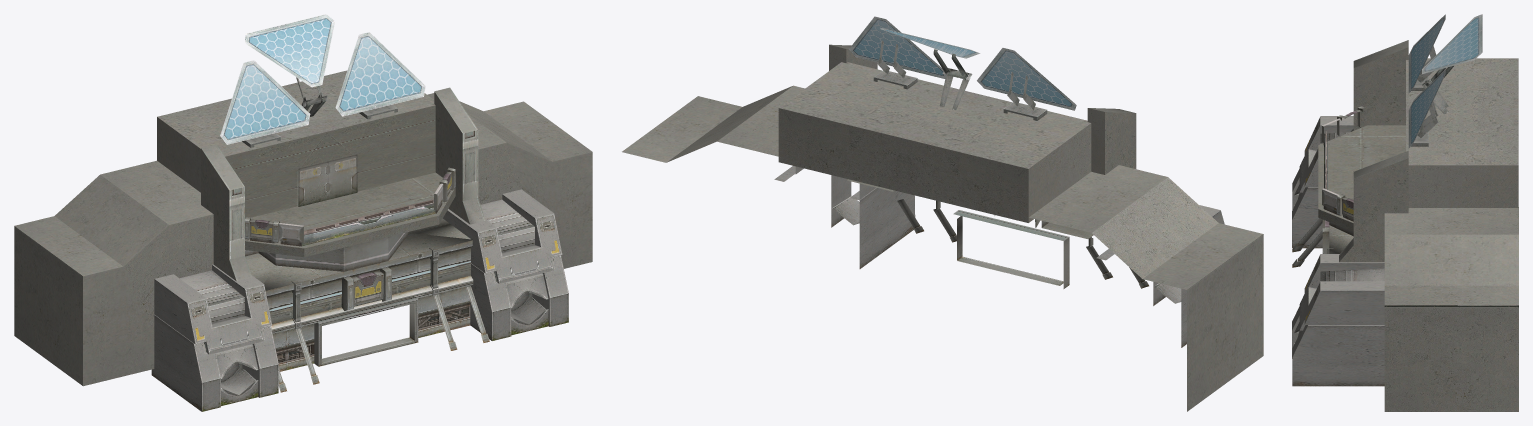
Rendered from Building_Mainexit01_lod2.glb.
The picture shows the model from 3 angles, left to right: view 1: azimuth 30°, elevation 25°; view 2: azimuth 150°, elevation 25°; view 3: azimuth 270°, elevation 25°; orthographic projection. The views are drawn at different scales.
Parts seen in each view (by area): view 1: xiutz_mainexit_01_lod2; view 2: xiutz_mainexit_01_lod2; view 3: xiutz_mainexit_01_lod2.
Part boxes in pixels (x1,y1,x2,y2): xiutz_mainexit_01_lod2: [14, 14, 592, 411]; xiutz_mainexit_01_lod2: [622, 16, 1263, 411]; xiutz_mainexit_01_lod2: [1292, 14, 1518, 411].
Bounding box in the file's own units: 62.75 × 32.01 × 24.83.
1 material, 1 textured.
